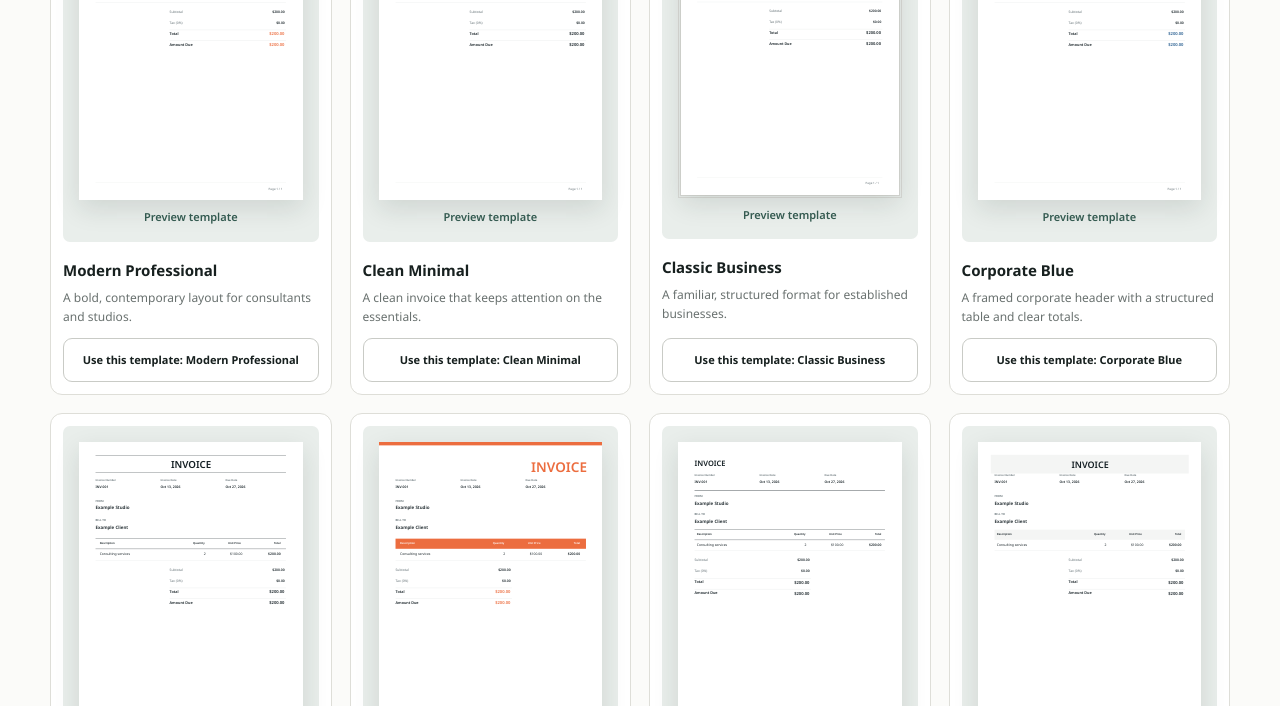
visual invoice workflow › selects classic before asking for personal details
This screenshot has width=1280, height=706.
(page scrolled)
Check: the button "Business or full name" is not shown
Step 1. Click the button "Use this template: Classic Business" → (790,360), box 662,338 -> 918,382
(page scrolled)
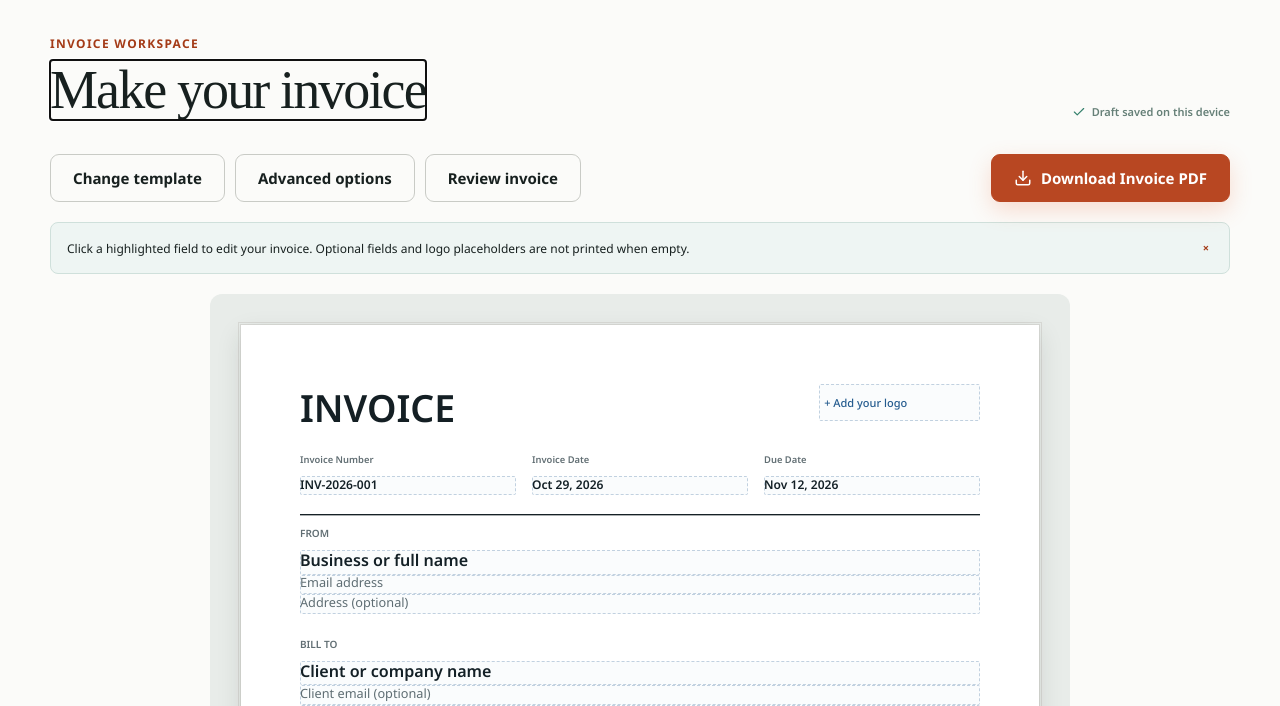
Check: the button named "Business or full name" is shown, box 300,550 -> 980,575
